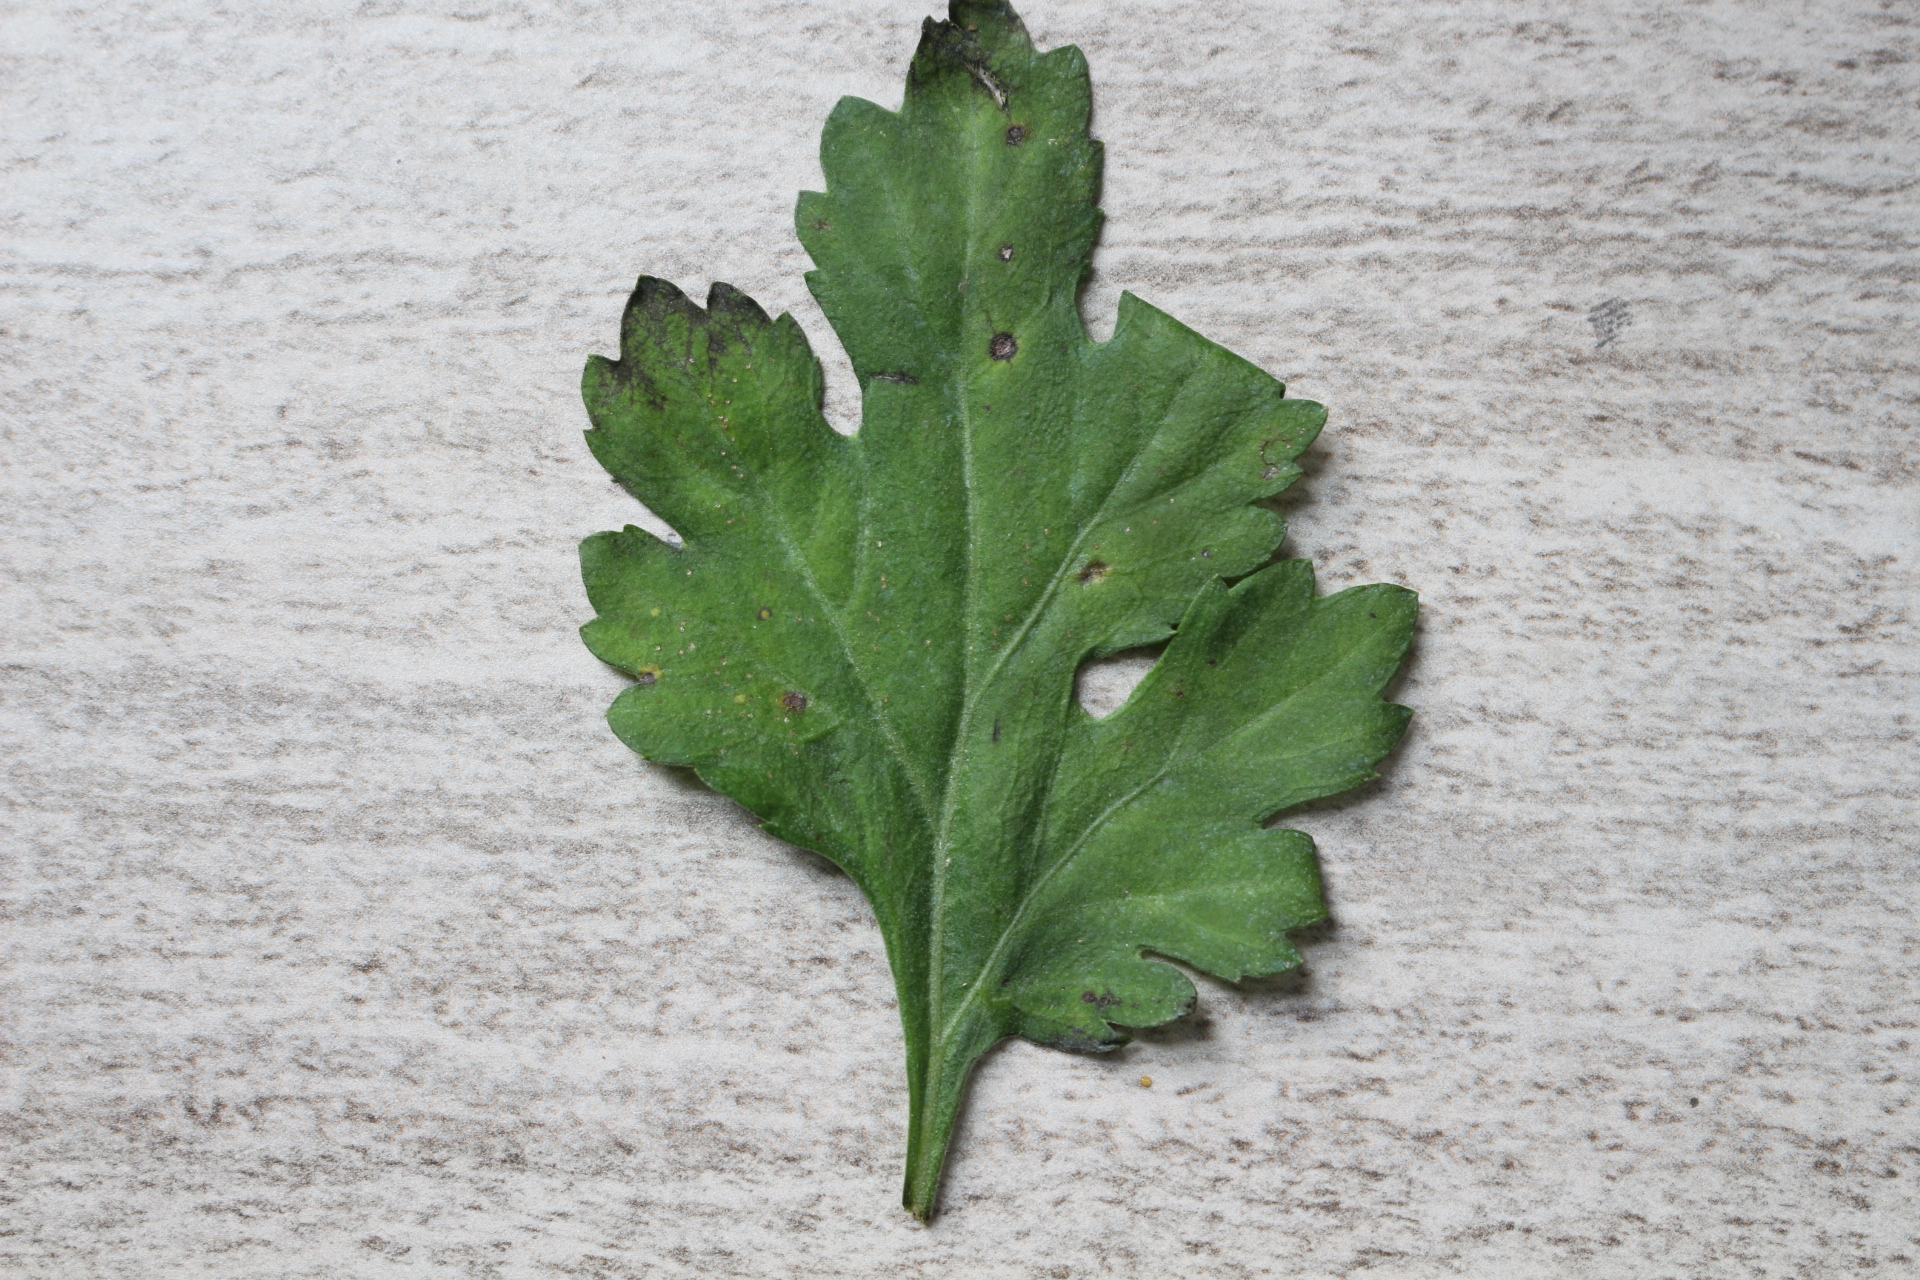namden: (984, 327, 1029, 367), (999, 121, 1029, 153)
